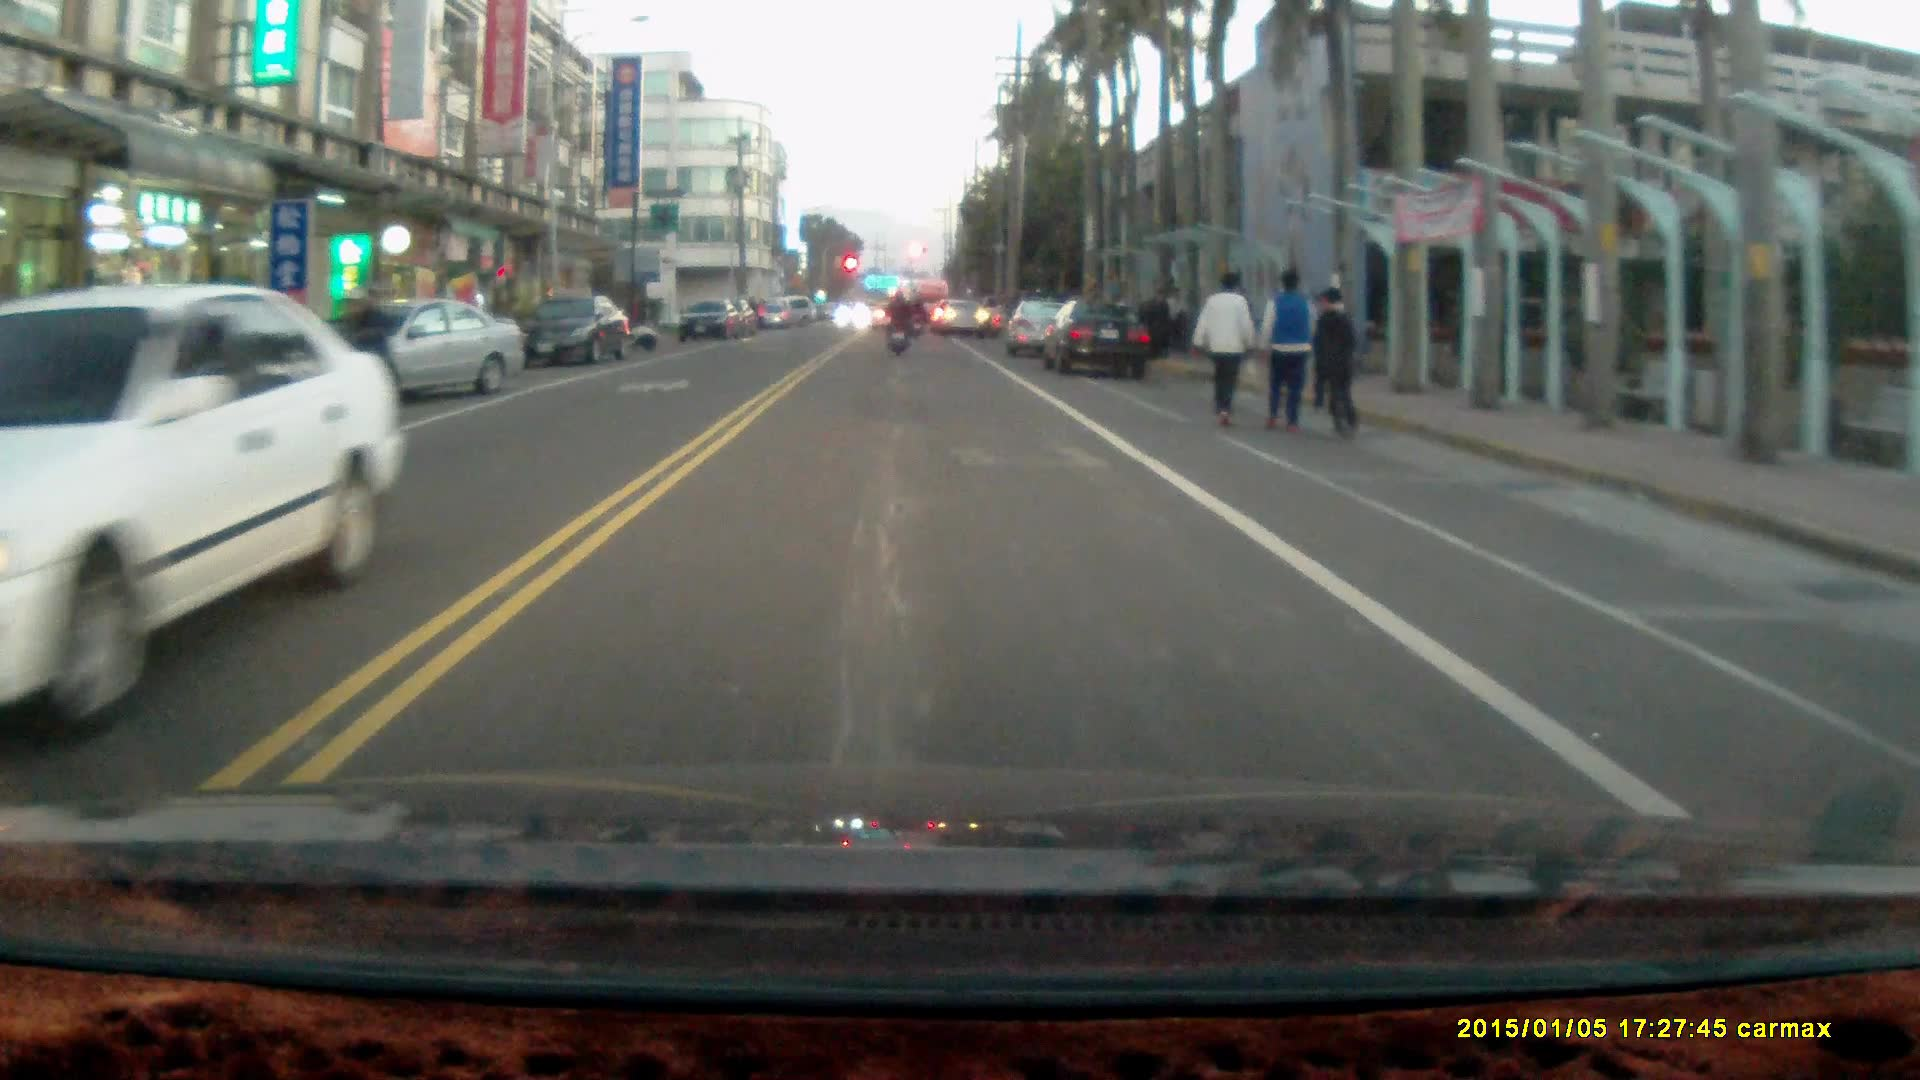pedestrian: (1192, 266, 1257, 430), (1257, 266, 1317, 435), (1309, 287, 1360, 441)
rider: (310, 285, 402, 464), (883, 285, 914, 356)
vehicle: (1, 287, 415, 686), (341, 299, 528, 405), (1043, 297, 1157, 380), (523, 294, 631, 370), (1008, 301, 1090, 362), (677, 299, 746, 343)
